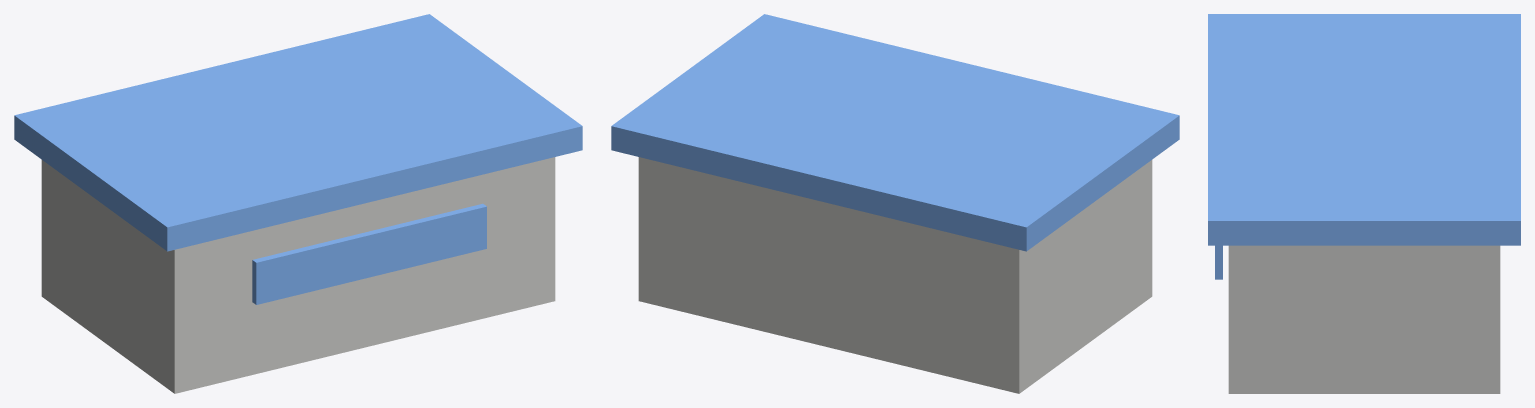
The model's file is FishCrate.fbx.
The picture shows the model from 3 angles, left to right: view 1: azimuth 30°, elevation 25°; view 2: azimuth 150°, elevation 25°; view 3: azimuth 270°, elevation 25°; orthographic projection. The views are drawn at different scales.
Parts seen in each view (by area): view 1: LOD0; view 2: LOD0; view 3: LOD0.
Part boxes in pixels (x1,y1,x2,y2): LOD0: (14, 14, 582, 393); LOD0: (611, 14, 1179, 393); LOD0: (1208, 14, 1520, 393).
Size of what is drawn, in the model's own units: 72 by 29.5 by 46.
